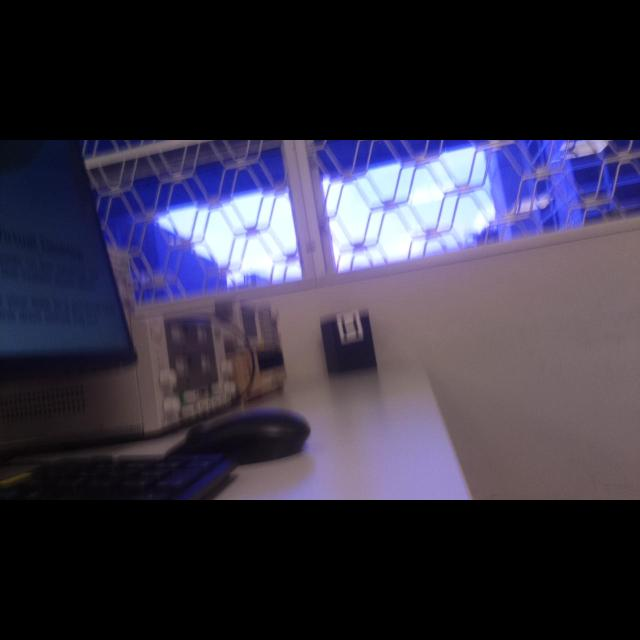H: (341, 313, 360, 342)
